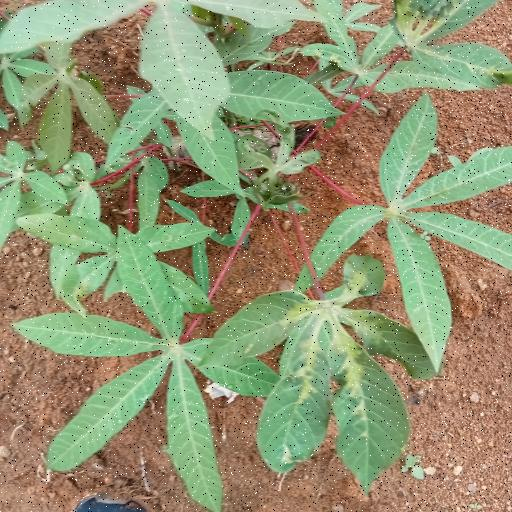Cassava_Mosaic: (212, 255, 440, 456)
